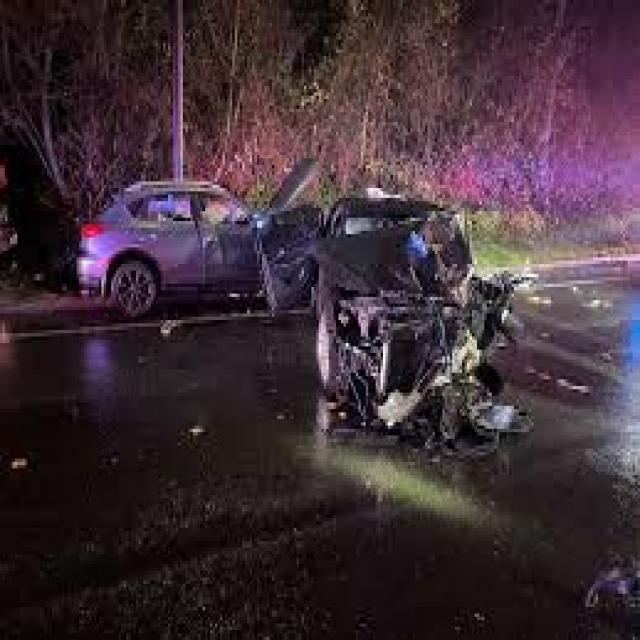accident: (83, 138, 540, 475)
